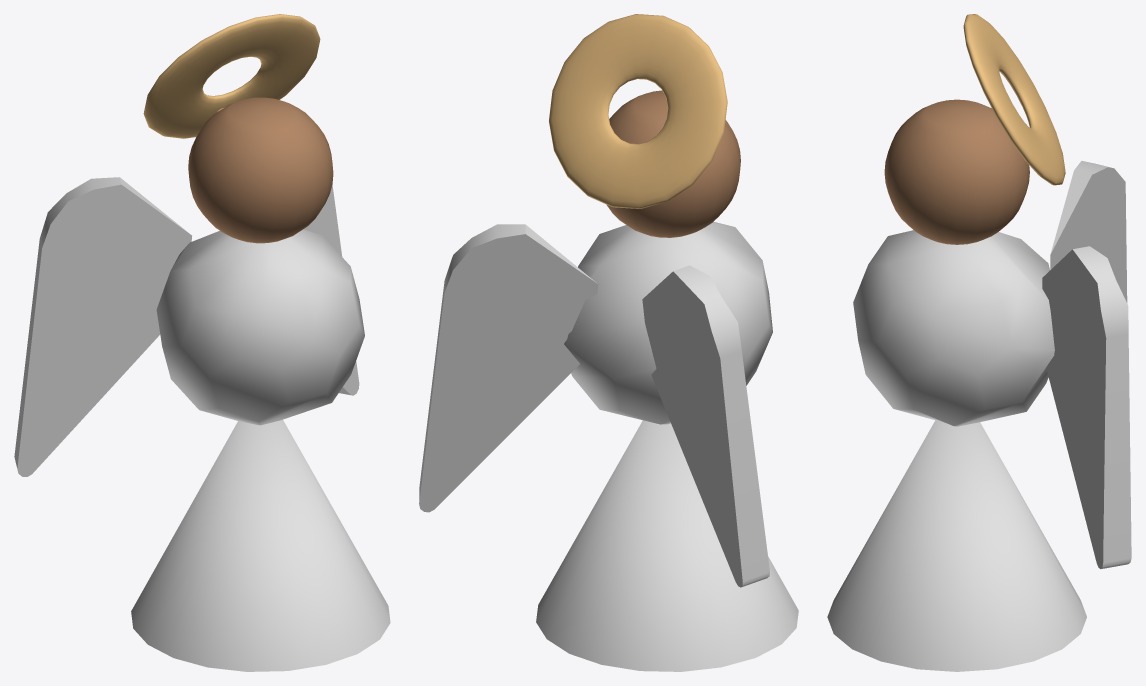
Rendered from angel_textured_fixedscale.fbx.
The picture shows the model from 3 angles, left to right: view 1: azimuth 30°, elevation 25°; view 2: azimuth 150°, elevation 25°; view 3: azimuth 270°, elevation 25°; orthographic projection.
Parts seen in each view (by area): view 1: angelbase, angelbody, angelwing1, angelhead, angelhalo, angelwing2; view 2: angelbase, angelwing2, angelhalo, angelwing1, angelbody, angelhead; view 3: angelbase, angelbody, angelwing2, angelhead, angelhalo, angelwing1.
Part boxes in pixels (x1=…): angelbase: x1=131, y1=419, x2=390, y2=671; angelbody: x1=156, y1=229, x2=364, y2=425; angelwing1: x1=14, y1=177, x2=191, y2=476; angelhead: x1=188, y1=97, x2=333, y2=243; angelhalo: x1=143, y1=14, x2=320, y2=138; angelwing2: x1=303, y1=184, x2=359, y2=395; angelbase: x1=536, y1=420, x2=798, y2=671; angelwing2: x1=419, y1=224, x2=598, y2=512; angelhalo: x1=549, y1=14, x2=727, y2=208; angelwing1: x1=642, y1=265, x2=769, y2=587; angelbody: x1=564, y1=221, x2=772, y2=424; angelhead: x1=607, y1=90, x2=740, y2=237; angelbase: x1=827, y1=420, x2=1086, y2=671; angelbody: x1=853, y1=230, x2=1054, y2=426; angelwing2: x1=1042, y1=246, x2=1131, y2=568; angelhead: x1=884, y1=99, x2=1029, y2=244; angelhalo: x1=963, y1=14, x2=1065, y2=185; angelwing1: x1=1050, y1=161, x2=1127, y2=302.
Size of the model in its own units: 230 by 381 by 177.
